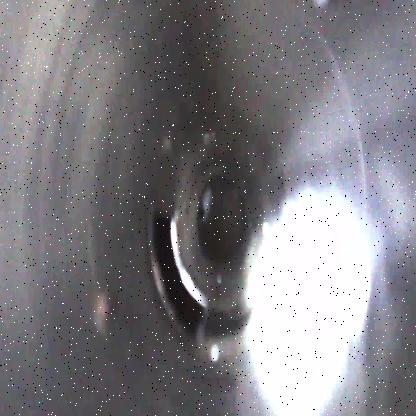Crack2: (150, 206, 207, 344)
